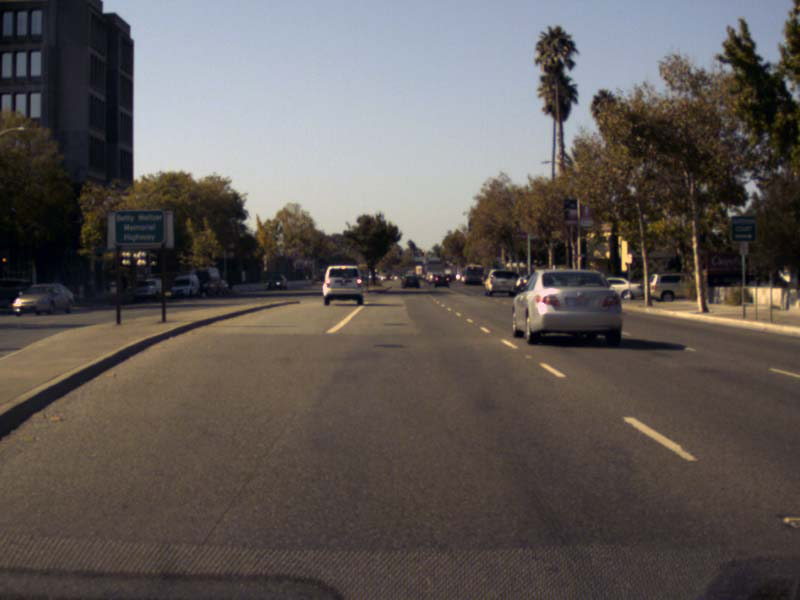Yellow: (0, 254, 8, 265)
